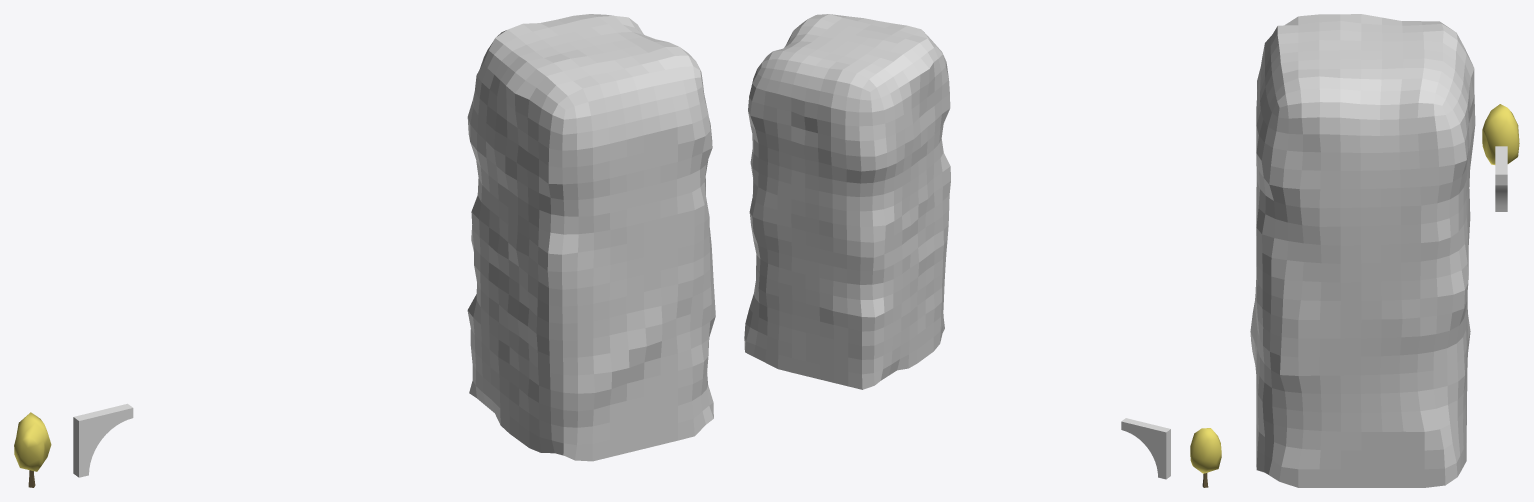
The picture shows the model from 3 angles, left to right: view 1: azimuth 30°, elevation 25°; view 2: azimuth 150°, elevation 25°; view 3: azimuth 270°, elevation 25°; orthographic projection. The views are drawn at different scales.
Visible parts, largest first — view 1: RockLarge, ArchHalf, Tree; view 2: RockLarge, ArchHalf, Tree; view 3: RockLarge, Tree, ArchHalf.
Part boxes in pixels (left/top/right/bottom): RockLarge: left=467, top=14, right=715, bottom=461; ArchHalf: left=73, top=403, right=133, bottom=477; Tree: left=14, top=412, right=51, bottom=487; RockLarge: left=744, top=14, right=950, bottom=389; ArchHalf: left=1121, top=418, right=1170, bottom=479; Tree: left=1190, top=428, right=1221, bottom=487; RockLarge: left=1250, top=14, right=1475, bottom=487; Tree: left=1482, top=104, right=1519, bottom=164; ArchHalf: left=1495, top=146, right=1507, bottom=211.
Bounding box in the file's own units: 122 × 71.77 × 44.21.
